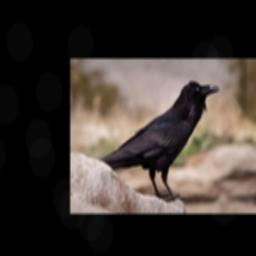Crow: (98, 77, 221, 200)
